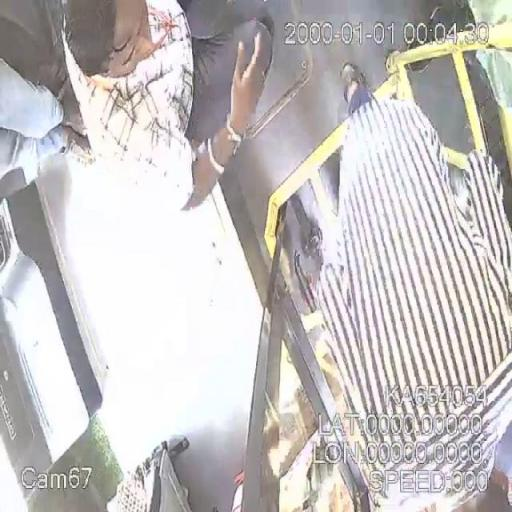persona: (259, 85, 511, 512), (42, 0, 278, 210)
